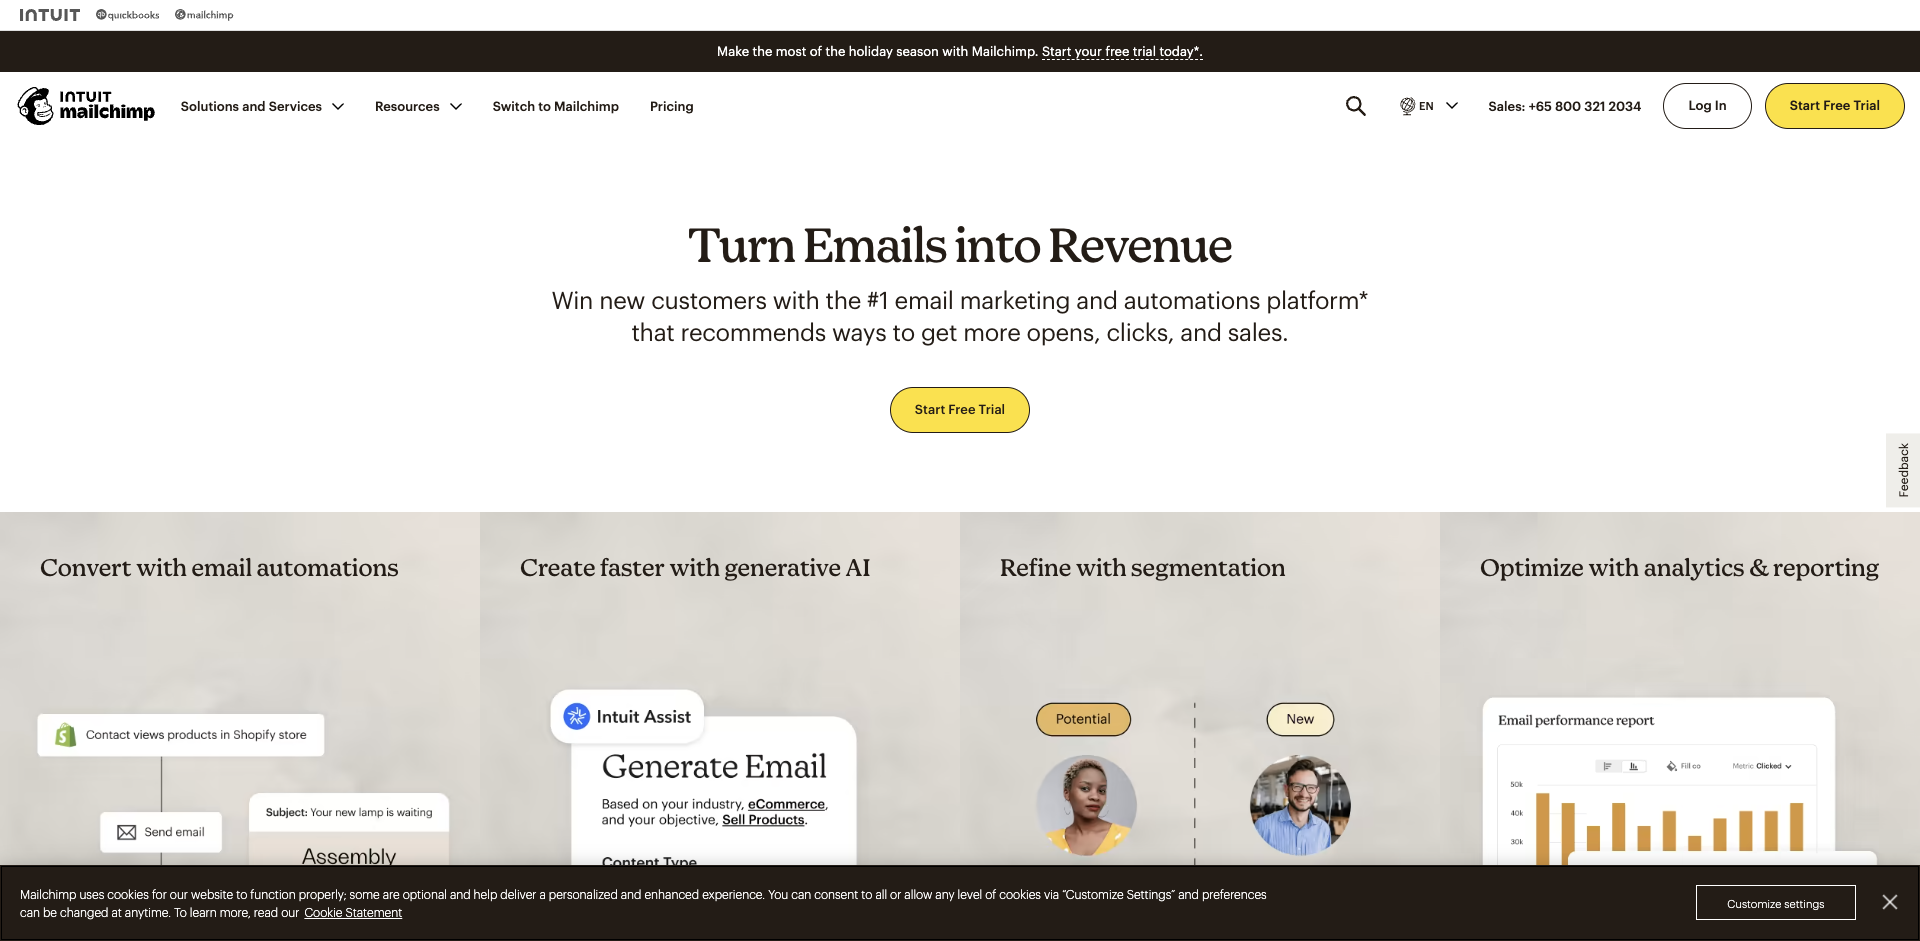button: (1766, 85, 1904, 127), (173, 91, 351, 121), (1696, 886, 1855, 920), (367, 91, 470, 121), (1389, 88, 1466, 124), (1886, 433, 1920, 507), (1882, 894, 1898, 909)
link: (0, 512, 480, 941), (480, 512, 960, 941), (960, 512, 1440, 941), (1440, 512, 1920, 941), (16, 83, 158, 129), (891, 388, 1029, 431), (1480, 91, 1649, 121), (485, 91, 627, 121), (1664, 85, 1751, 127), (1042, 43, 1202, 60), (642, 91, 702, 121), (88, 5, 168, 25), (12, 5, 88, 25), (168, 5, 242, 25), (305, 905, 403, 919), (1338, 88, 1374, 124), (0, 0, 54, 22)
